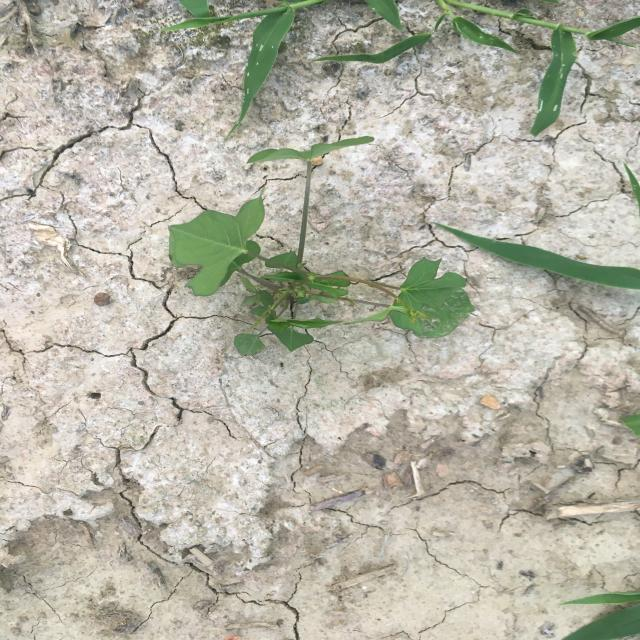MorningGlory: (166, 133, 480, 360)
